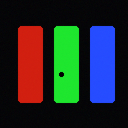0 point: (59, 72, 63, 76)
